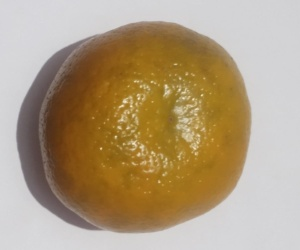BAD: (35, 16, 255, 236)
